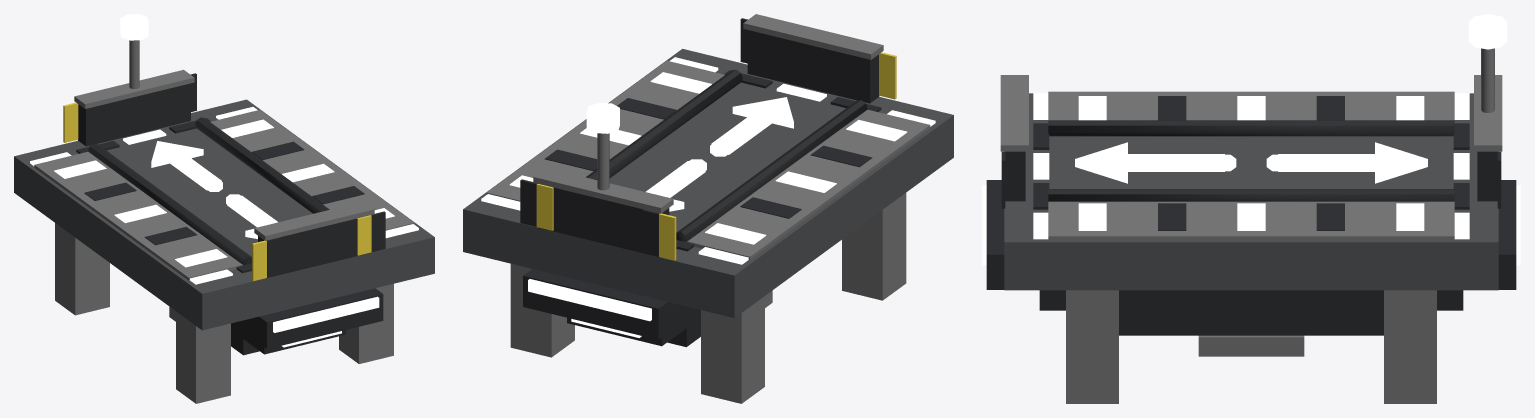
Rendered from Deck_Ferry_v4_2.glb.
The picture shows the model from 3 angles, left to right: view 1: azimuth 30°, elevation 25°; view 2: azimuth 150°, elevation 25°; view 3: azimuth 270°, elevation 25°; orthographic projection. The views are drawn at different scales.
Visible parts, largest first — view 1: Deck_Ferry_v4_2; view 2: Deck_Ferry_v4_2; view 3: Deck_Ferry_v4_2.
Part boxes in pixels (<box>): Deck_Ferry_v4_2: <box>14,14,434,403</box>; Deck_Ferry_v4_2: <box>463,14,953,403</box>; Deck_Ferry_v4_2: <box>982,14,1520,403</box>.
Bounding box in the file's own units: 2 × 1.99 × 3.05.
